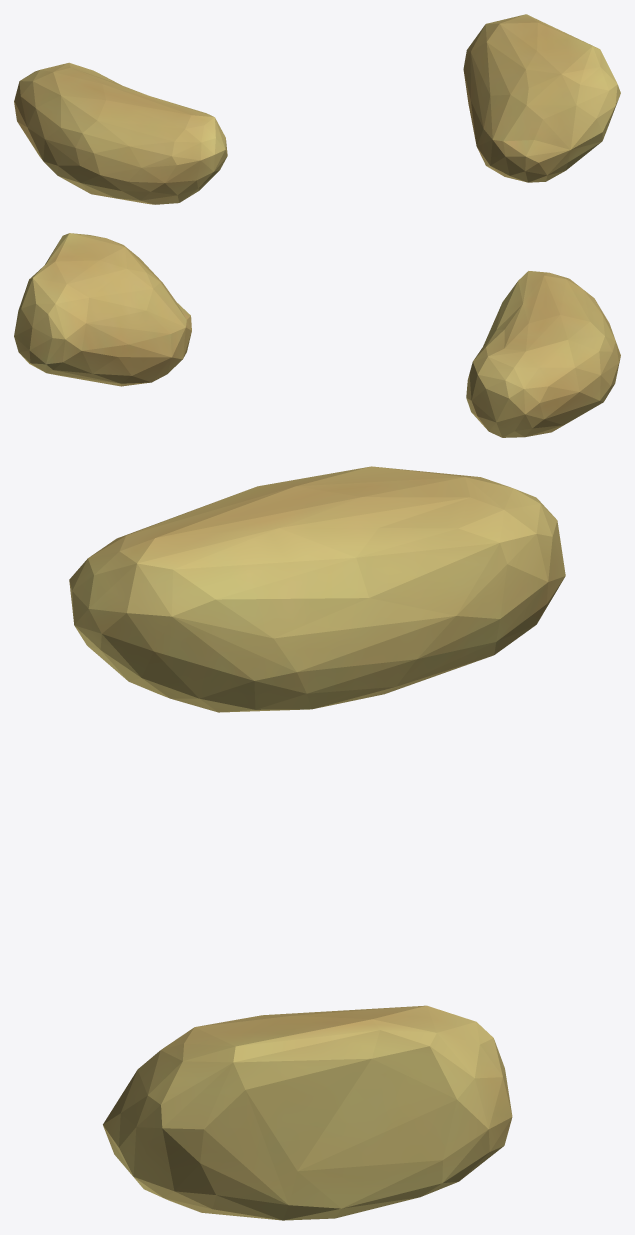
File: nodes_lymph_renal_LP.glb
3 views of the same model, one above another, from view 1: azimuth 30°, elevation 25°; view 2: azimuth 150°, elevation 25°; view 3: azimuth 270°, elevation 25° (orthographic). The views are drawn at different scales.
Visible parts, largest first — view 1: nodes_lymph_renal_LP; view 2: nodes_lymph_renal_LP; view 3: nodes_lymph_renal_LP.
Boxes of the visible parts, bbox=[...] form: nodes_lymph_renal_LP: bbox=[14, 14, 620, 204]; nodes_lymph_renal_LP: bbox=[14, 233, 620, 437]; nodes_lymph_renal_LP: bbox=[69, 466, 565, 1220].
Size of the model in its own units: 0.000895 by 0.000259 by 0.00036.
Materials: 1 (1 with a texture image).
